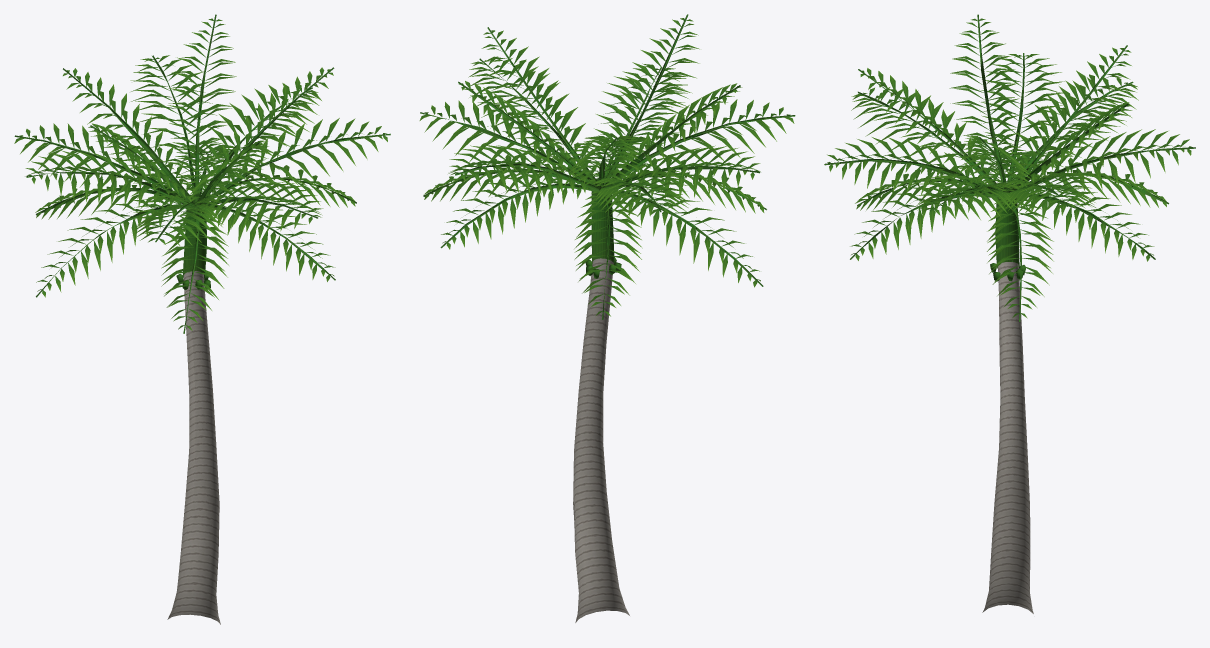
The model's file is veg_palm_royal_aaa_lod1-c16f20a786b7.glb.
3 views of the same model, side by side, from view 1: azimuth 30°, elevation 25°; view 2: azimuth 150°, elevation 25°; view 3: azimuth 270°, elevation 25° (orthographic). The views are drawn at different scales.
Parts seen in each view (by area): view 1: veg_palm_royal_aaa; view 2: veg_palm_royal_aaa; view 3: veg_palm_royal_aaa.
Part boxes in pixels (box(x1,y1,x2,y2)): veg_palm_royal_aaa: box(14, 14, 390, 624); veg_palm_royal_aaa: box(419, 14, 795, 622); veg_palm_royal_aaa: box(824, 14, 1195, 613).
Size of the model in its own units: 5.58 by 8.93 by 5.38.
3 materials, 3 textured.
